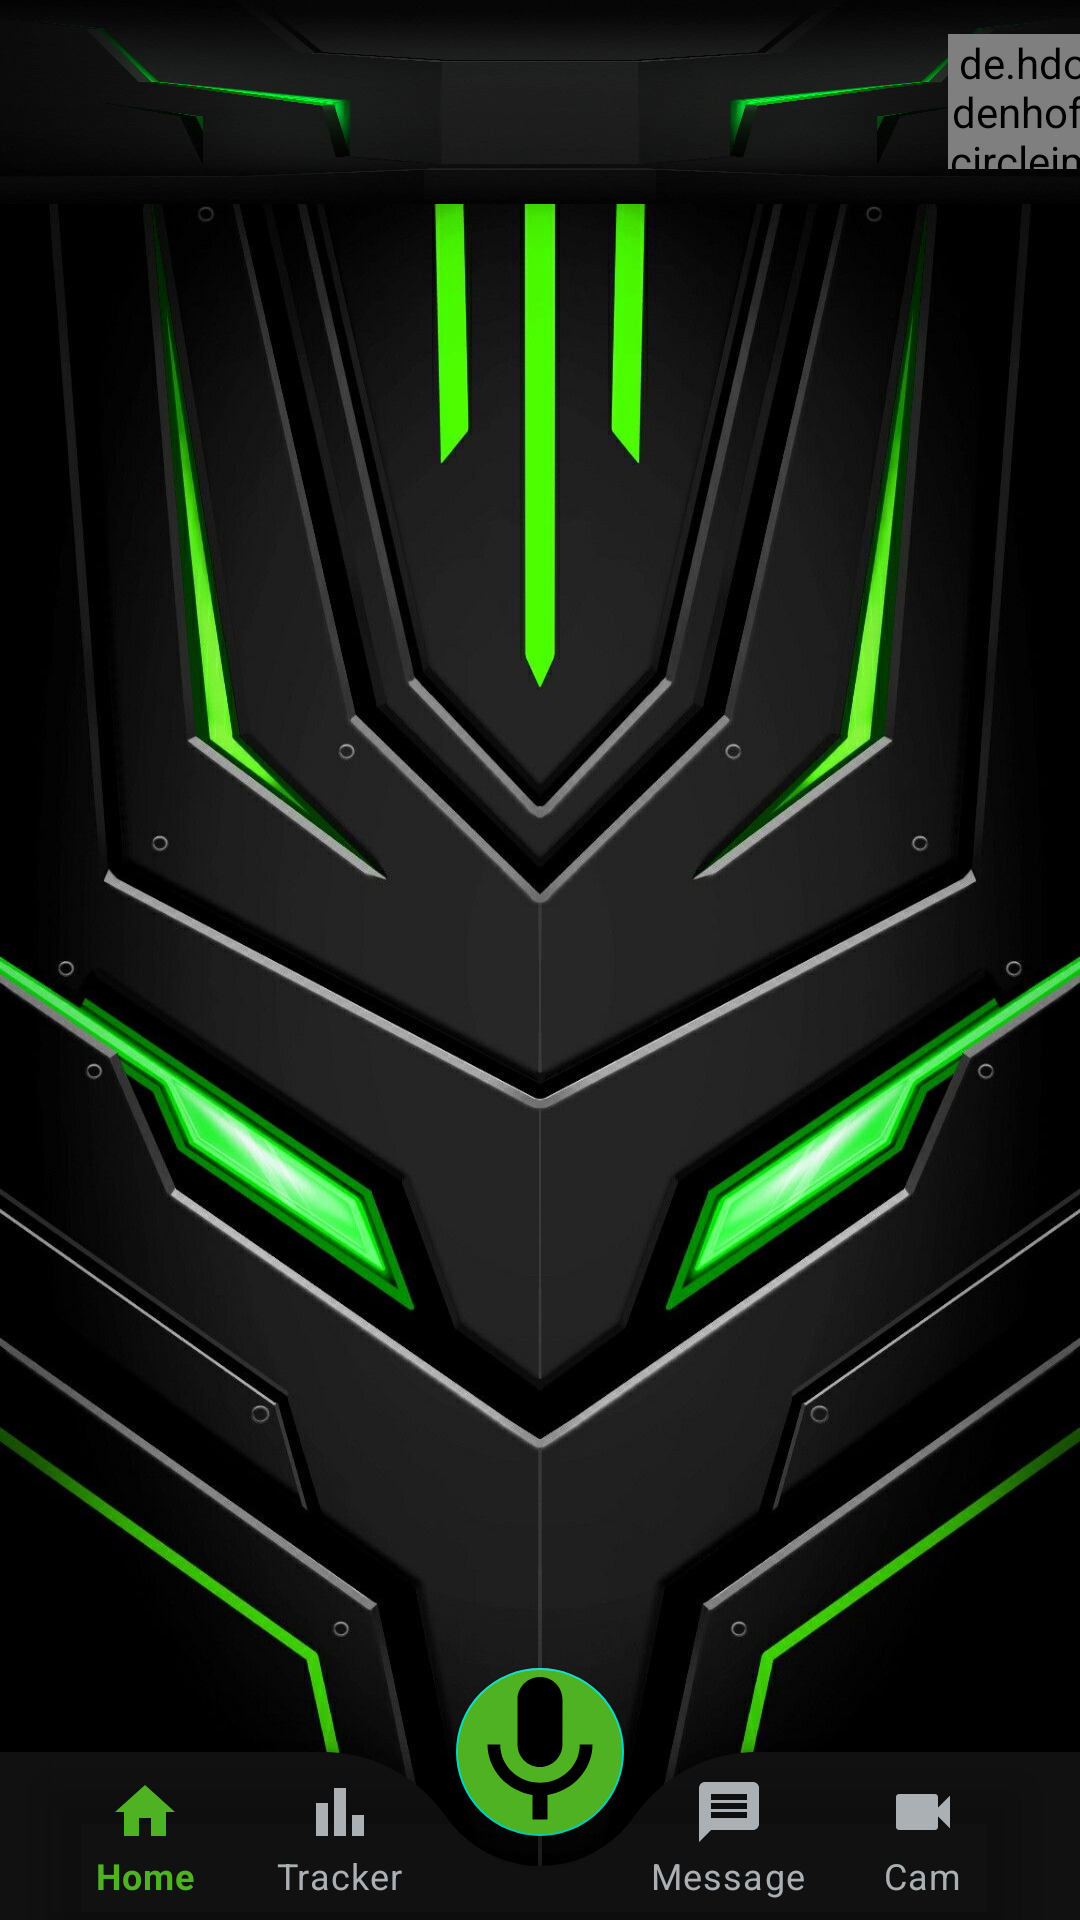

Icon click points for this 1080x1920 phone screenshot, format (x,y):
mic: (540,1752)
